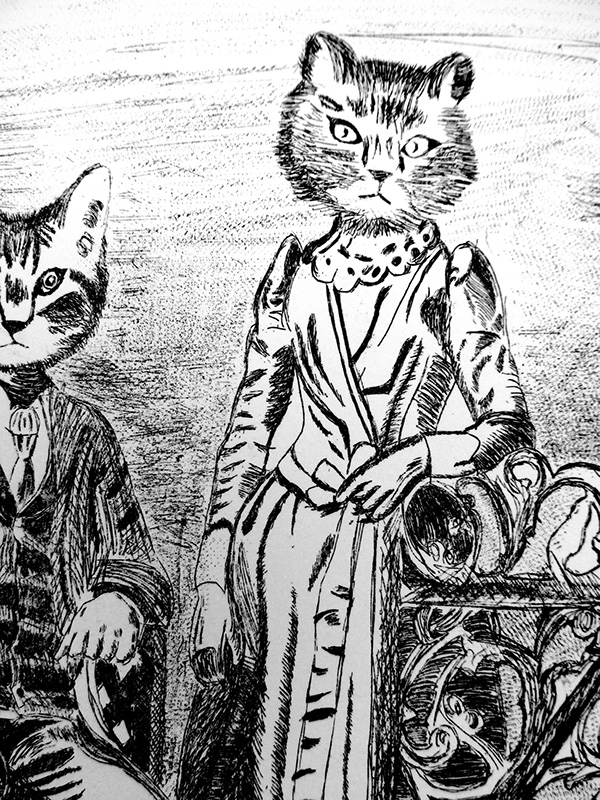cat: (195, 33, 540, 800), (2, 161, 168, 800)
